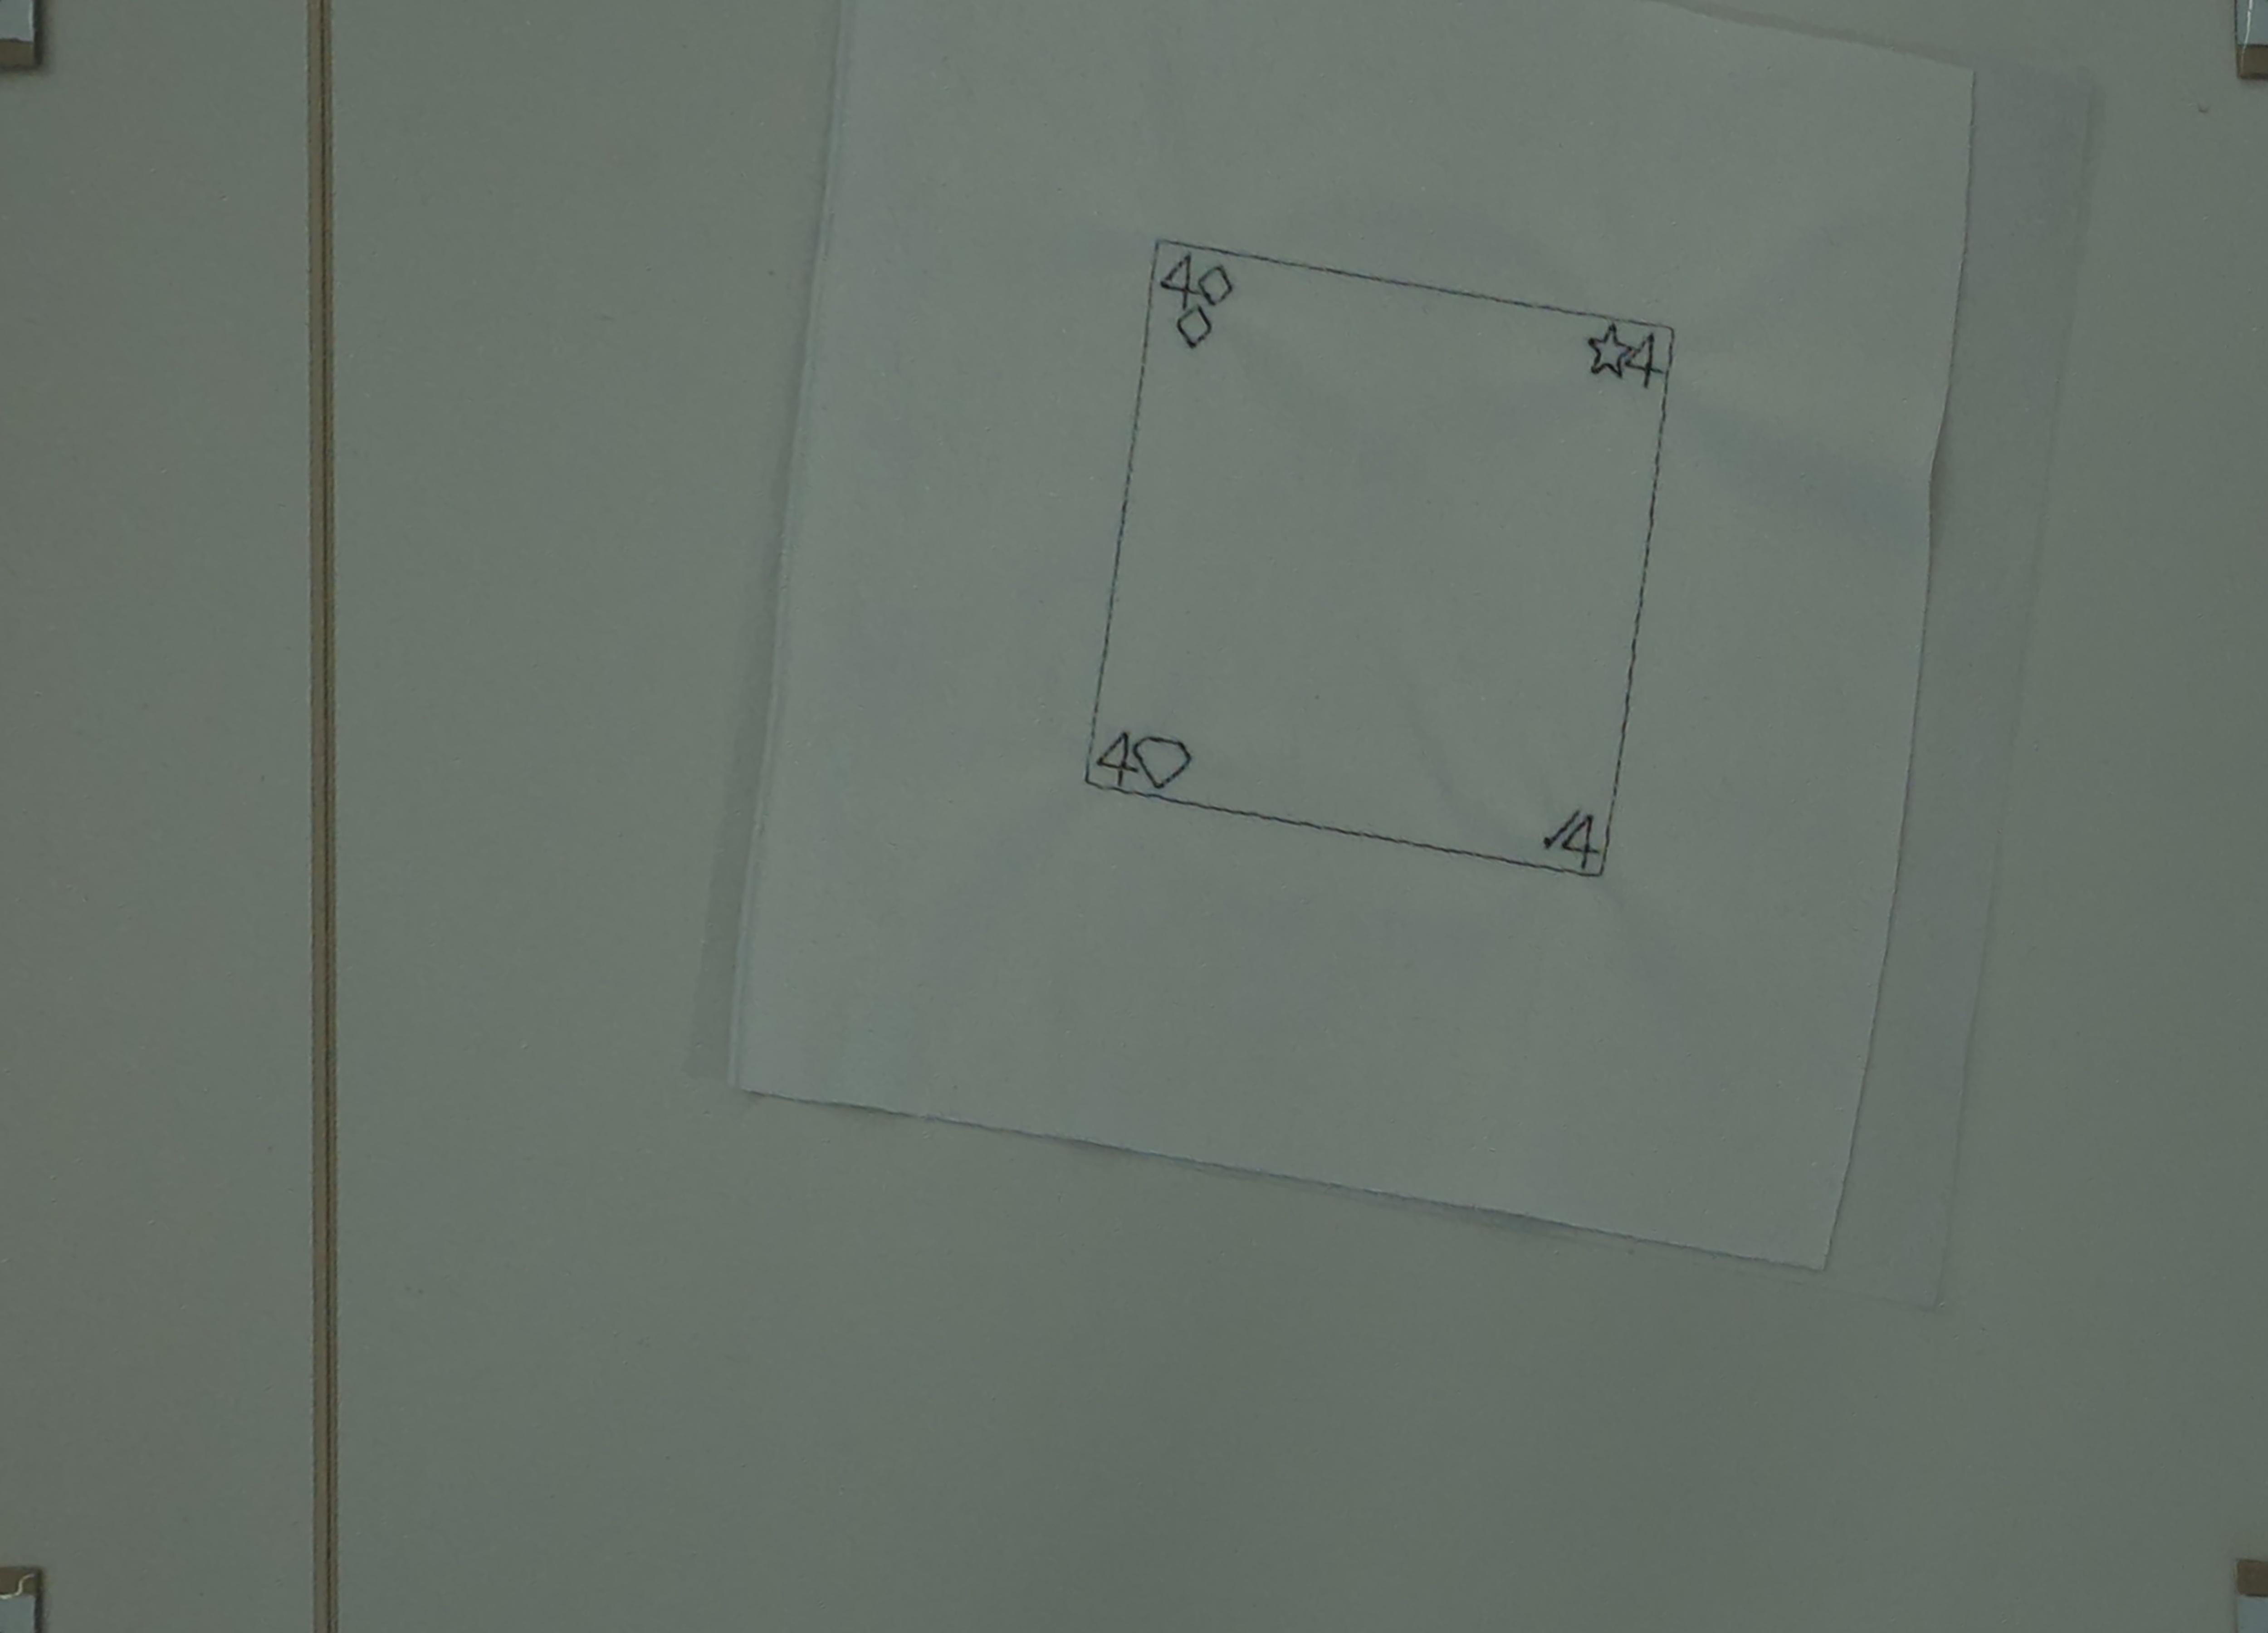4 -: (1093, 724, 1143, 791), (1551, 807, 1601, 874), (1160, 250, 1206, 321), (1629, 324, 1664, 403)
